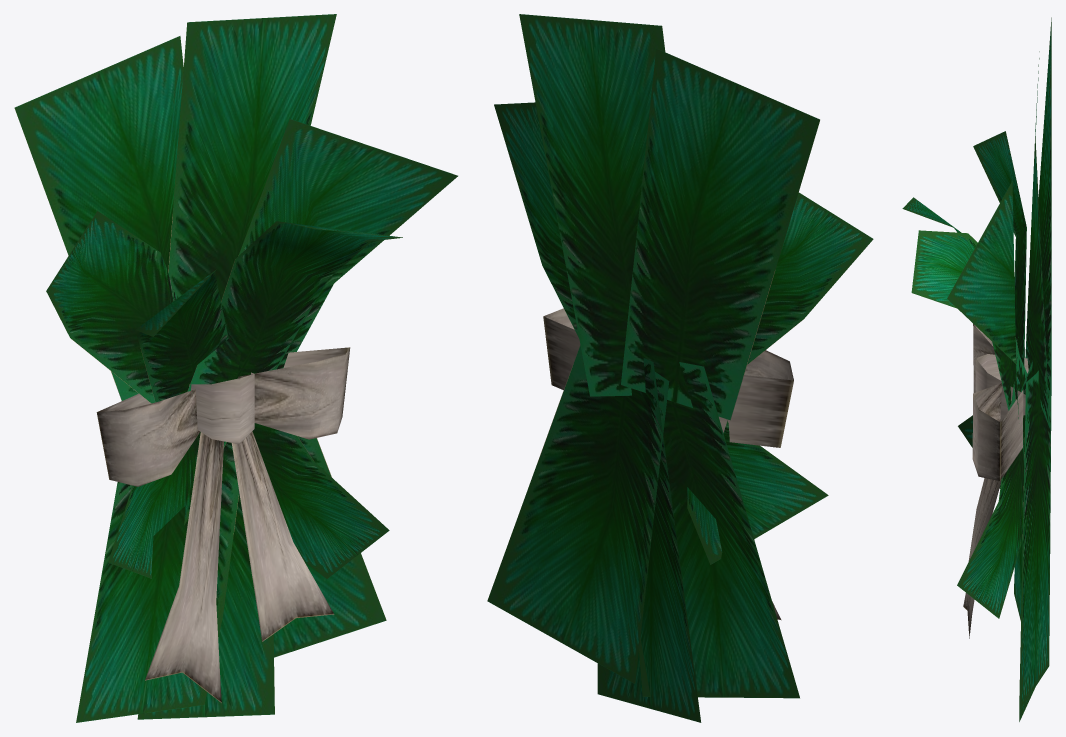
Rendered from pir_m_prp_hol_decoSwag_winter08.fbx.
3 views of the same model, side by side, from view 1: azimuth 30°, elevation 25°; view 2: azimuth 150°, elevation 25°; view 3: azimuth 270°, elevation 25° (orthographic). The views are drawn at different scales.
Parts seen in each view (by area): view 1: leaf_03, leaf_02, leaf_04, leaf_10, leaf_05, leaf_06, ribbon_left, leaf_08, ribbon_right, leaf_07, loop_left, loop_right (+4 smaller); view 2: leaf_02, leaf_11, leaf_03, leaf_10, leaf_07, leaf_05, leaf_09, leaf_04, loop_left, loop_right; view 3: leaf_11, leaf_04, leaf_08, leaf_06, loop_right, leaf_05, leaf_03, leaf_02, loop_center, ribbon_right, leaf_10, loop_left (+3 smaller).
Boxes of the visible parts, <box> form: leaf_03: <box>168,14,336,301</box>; leaf_02: <box>14,36,183,400</box>; leaf_04: <box>187,119,457,391</box>; leaf_10: <box>76,442,238,722</box>; leaf_05: <box>46,211,178,403</box>; leaf_06: <box>221,221,402,378</box>; ribbon_left: <box>145,432,223,702</box>; leaf_08: <box>238,423,389,578</box>; ribbon_right: <box>231,431,334,641</box>; leaf_07: <box>137,496,274,719</box>; loop_left: <box>96,389,199,486</box>; loop_right: <box>237,347,350,439</box>; leaf_02: <box>621,48,819,420</box>; leaf_11: <box>487,345,669,683</box>; leaf_03: <box>519,14,665,396</box>; leaf_10: <box>639,362,799,698</box>; leaf_07: <box>597,358,701,722</box>; leaf_05: <box>747,192,873,364</box>; leaf_09: <box>687,420,828,564</box>; leaf_04: <box>494,102,579,338</box>; loop_left: <box>719,350,793,447</box>; loop_right: <box>543,308,580,389</box>; leaf_11: <box>1019,374,1051,710</box>; leaf_04: <box>947,181,1018,418</box>; leaf_08: <box>957,352,1027,618</box>; leaf_06: <box>911,230,1019,410</box>; loop_right: <box>972,383,1023,480</box>; leaf_05: <box>973,131,1026,365</box>; leaf_03: <box>1025,51,1049,428</box>; leaf_02: <box>1038,17,1051,395</box>; loop_center: <box>975,354,1028,420</box>; ribbon_right: <box>963,480,1001,633</box>; leaf_10: <box>1014,360,1032,620</box>; loop_left: <box>973,324,1024,392</box>.
Bounding box in the file's own units: 240 × 405 × 84.89.
Materials: 1 (1 with a texture image).
